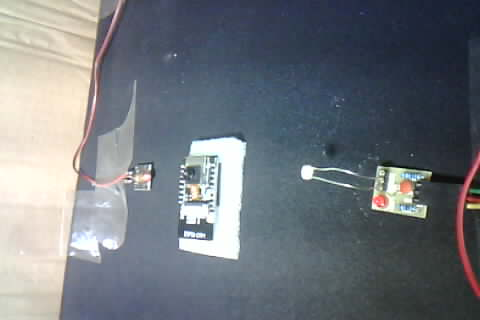esp32: (166, 141, 247, 253)
